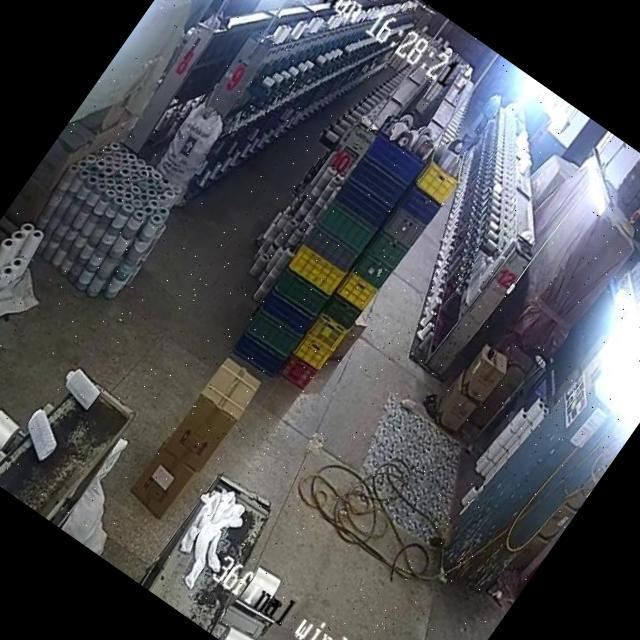person: (462, 88, 506, 146)
